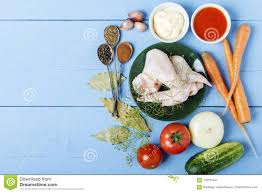Chicken: (143, 48, 196, 101)
Tomato: (161, 123, 190, 152)
